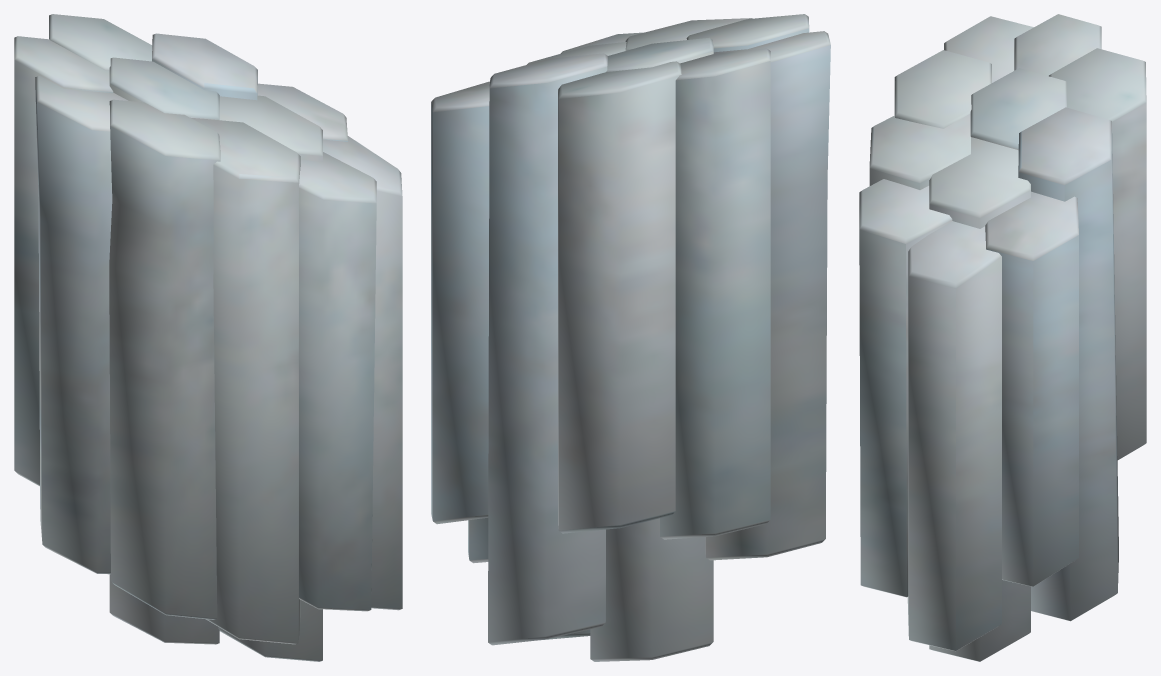
Rendered from P_RockHexic_RockSlanted09.obj.
The picture shows the model from 3 angles, left to right: view 1: azimuth 30°, elevation 25°; view 2: azimuth 150°, elevation 25°; view 3: azimuth 270°, elevation 25°; orthographic projection. The views are drawn at different scales.
Bounding box in the file's own units: 13.01 × 21.99 × 10.65.
